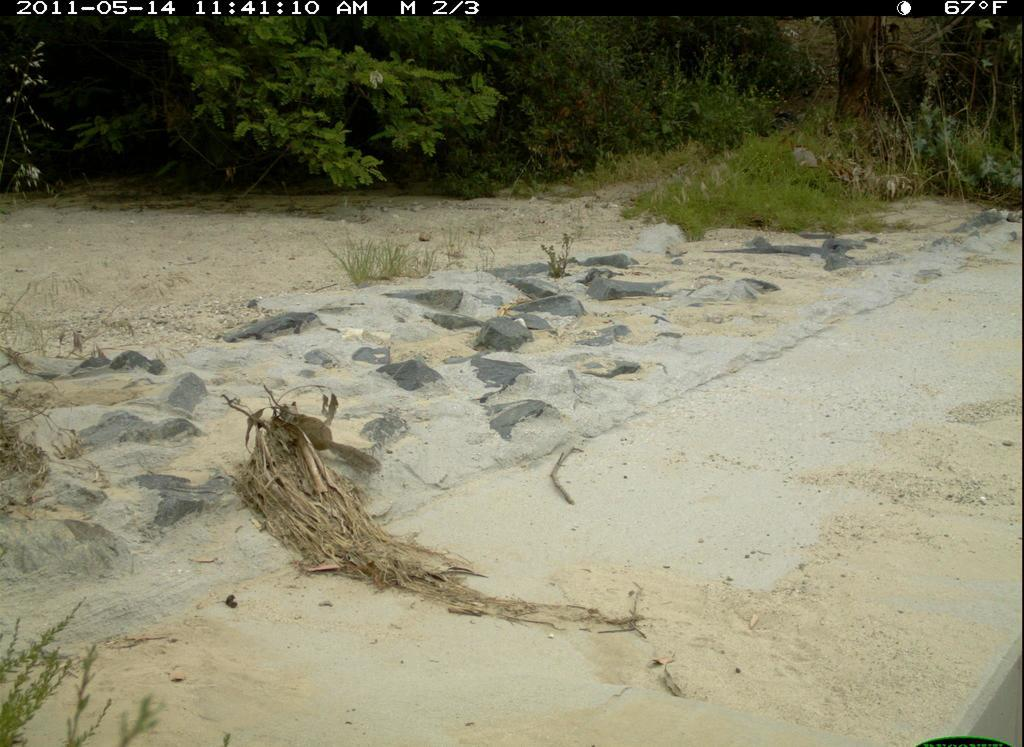squirrel: (275, 388, 384, 479)
